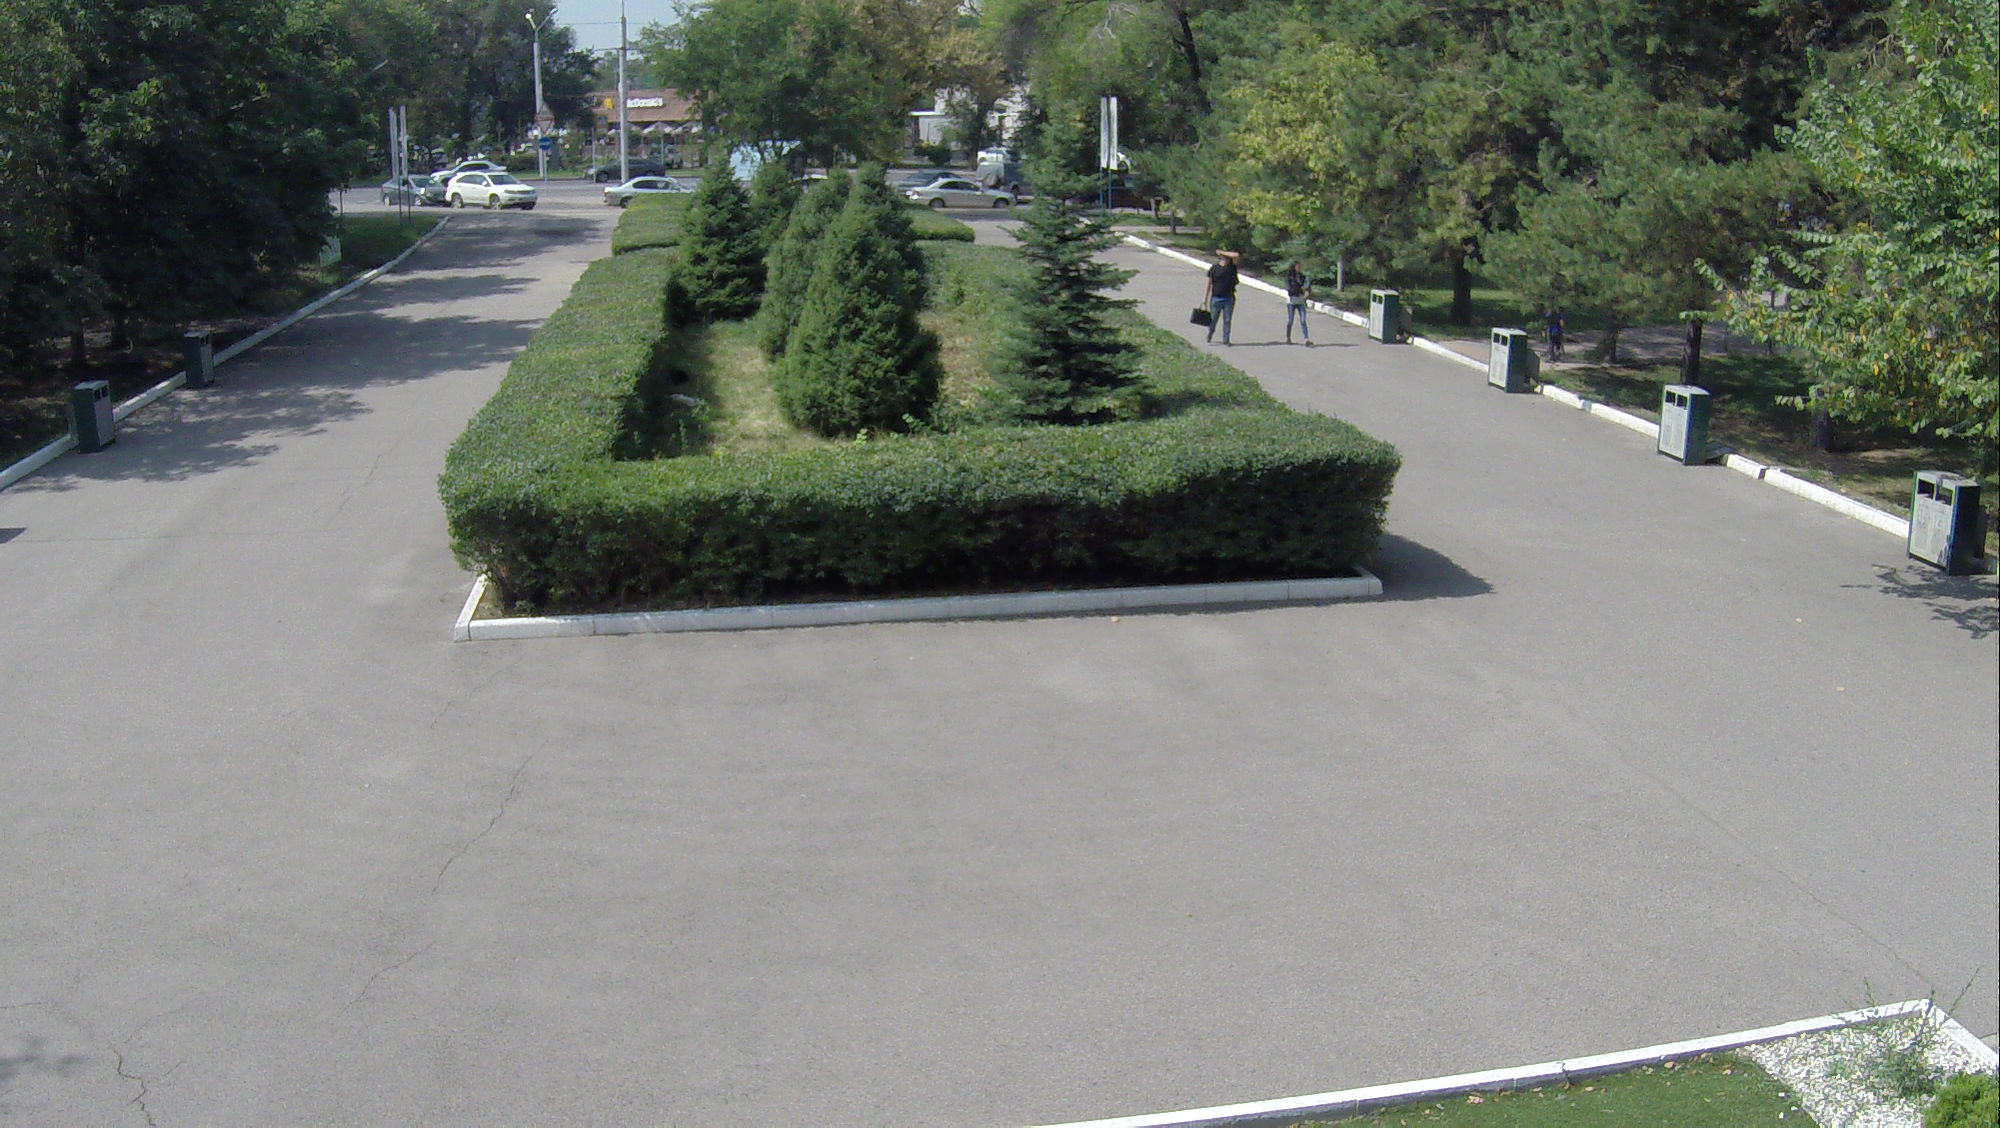person: (1191, 243, 1243, 358), (1282, 253, 1320, 341)
